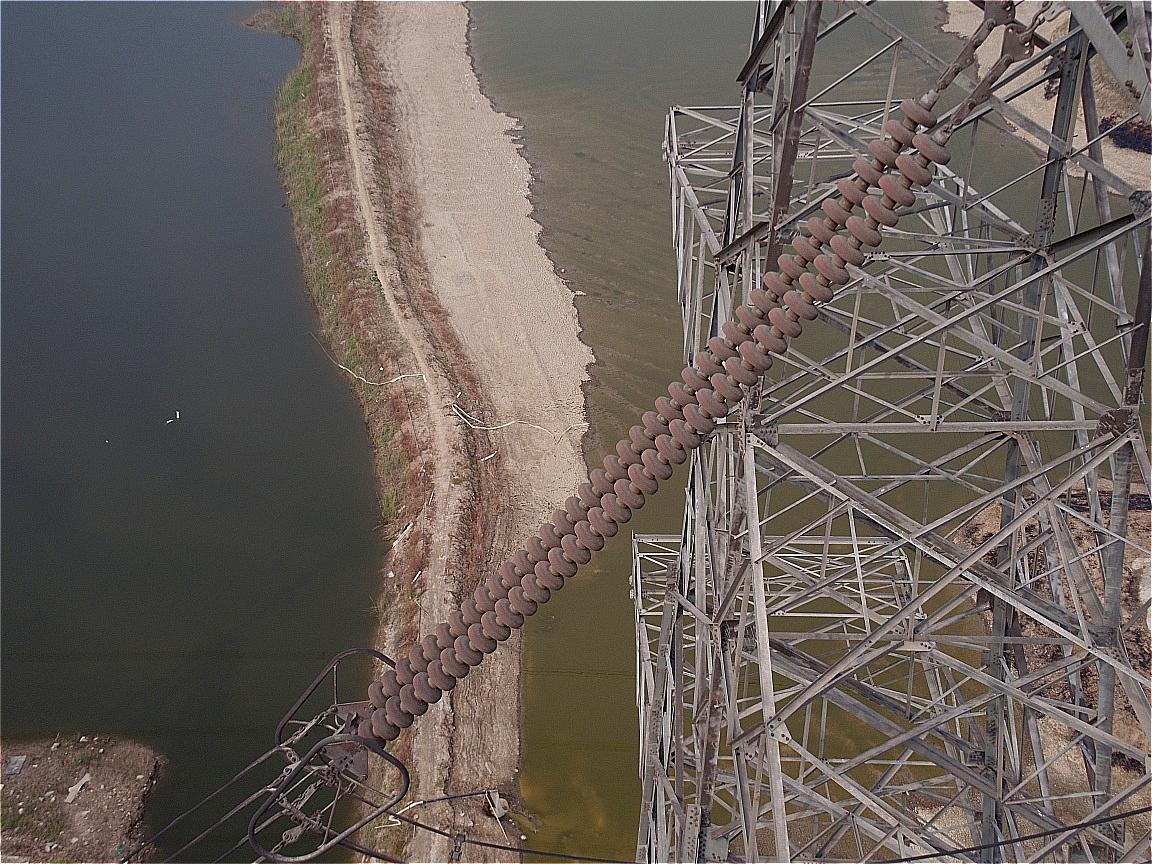insultor1: (366, 98, 952, 745)
